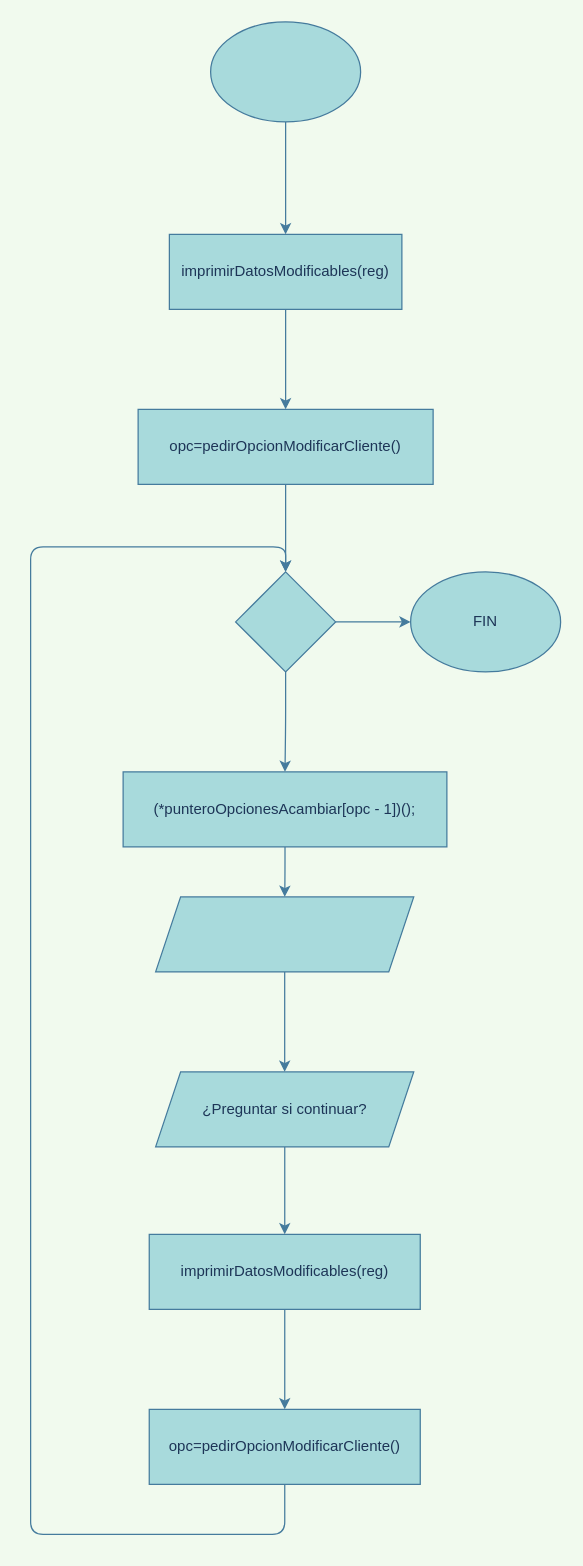
The diagram is 583 pixels wide and 1566 high, and some of its shapes have lost their labels. Each missing label, with the centre of its shape:
Dato modificado con exito: point 284,934
INICIO: point 285,71
opc!=6: point 285,621
